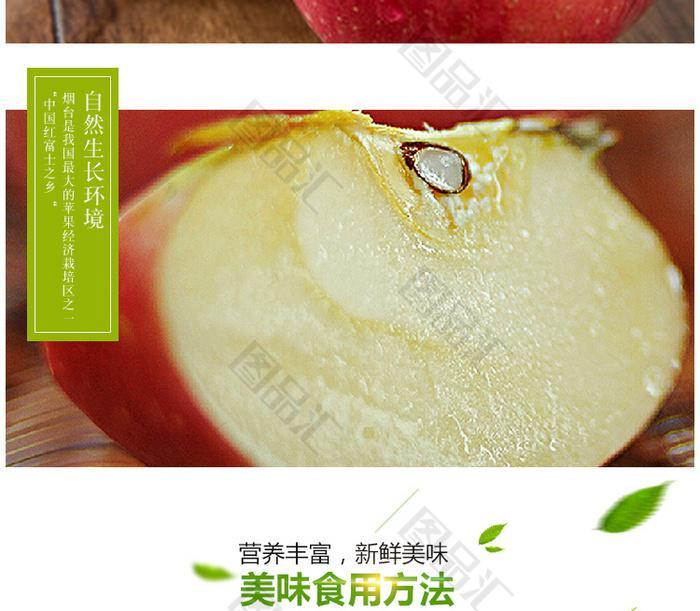apple: (51, 111, 691, 474)
